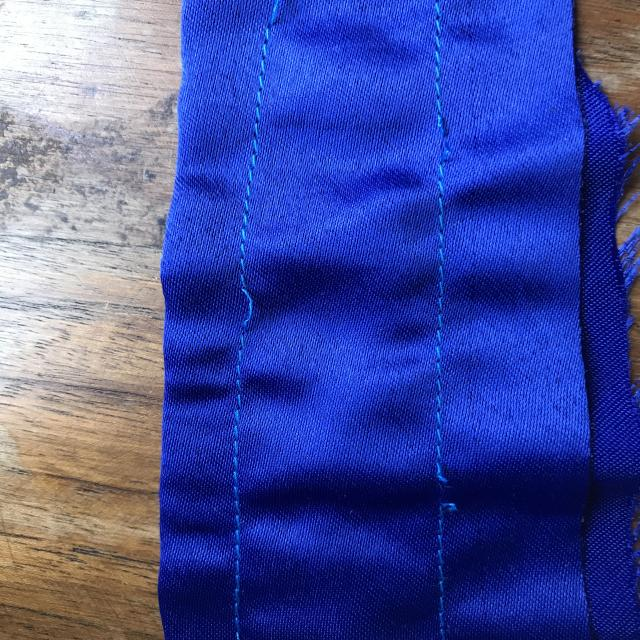broken: (413, 443, 480, 531)
good: (427, 271, 476, 392)
skip: (223, 249, 285, 345)
